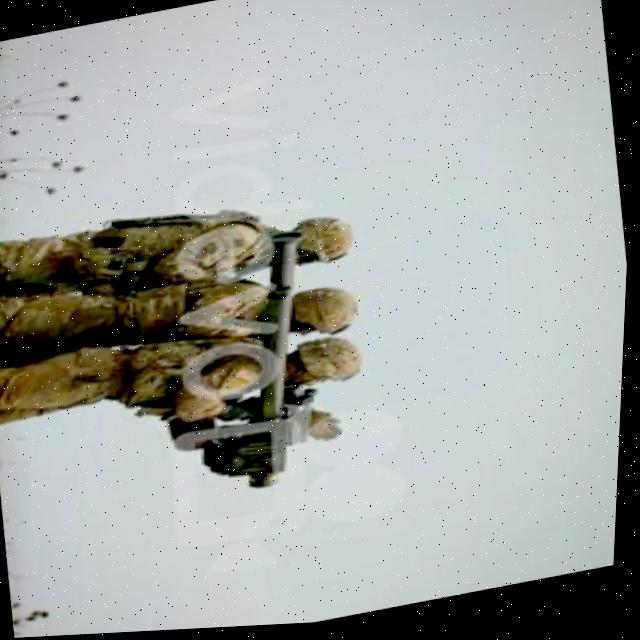rocket: (218, 228, 340, 495)
